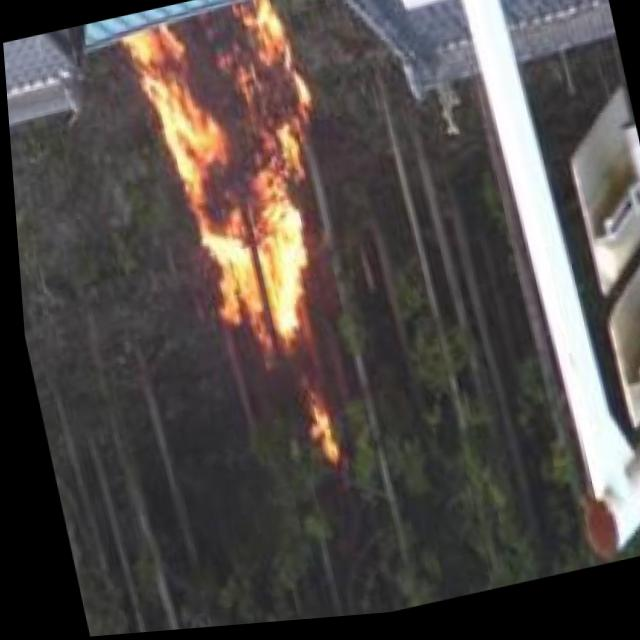Fire: (120, 0, 360, 390)
